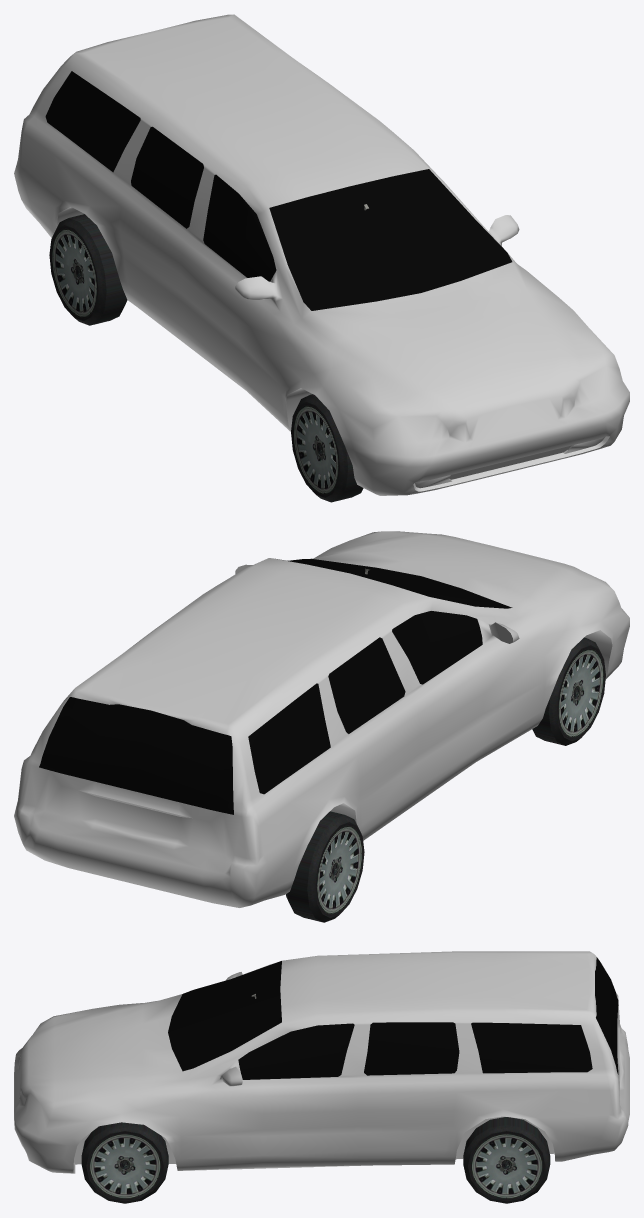
The model's file is volvo.FBX.
The picture shows the model from 3 angles, top to bottom: view 1: azimuth 30°, elevation 25°; view 2: azimuth 150°, elevation 25°; view 3: azimuth 270°, elevation 25°; orthographic projection. The views are drawn at different scales.
Visible parts, largest first — view 1: VVBluB, VVBluG, VVBluT02, VVBluT03; view 2: VVBluB, VVBluG, VVBluT02, VVBluT03; view 3: VVBluB, VVBluG, VVBluT00, VVBluT01.
Boxes of the visible parts, x1=… form: VVBluB: x1=14, y1=14, x2=629, y2=495; VVBluG: x1=45, y1=71, x2=512, y2=310; VVBluT02: x1=49, y1=214, x2=127, y2=325; VVBluT03: x1=291, y1=394, x2=363, y2=502; VVBluB: x1=14, y1=531, x2=629, y2=907; VVBluG: x1=39, y1=558, x2=512, y2=814; VVBluT02: x1=286, y1=811, x2=364, y2=922; VVBluT03: x1=532, y1=637, x2=605, y2=745; VVBluB: x1=14, y1=951, x2=629, y2=1173; VVBluG: x1=168, y1=957, x2=618, y2=1079; VVBluT00: x1=463, y1=1117, x2=550, y2=1203; VVBluT01: x1=81, y1=1122, x2=168, y2=1203.
Bounding box in the file's own units: 76.51 × 58.38 × 186.
